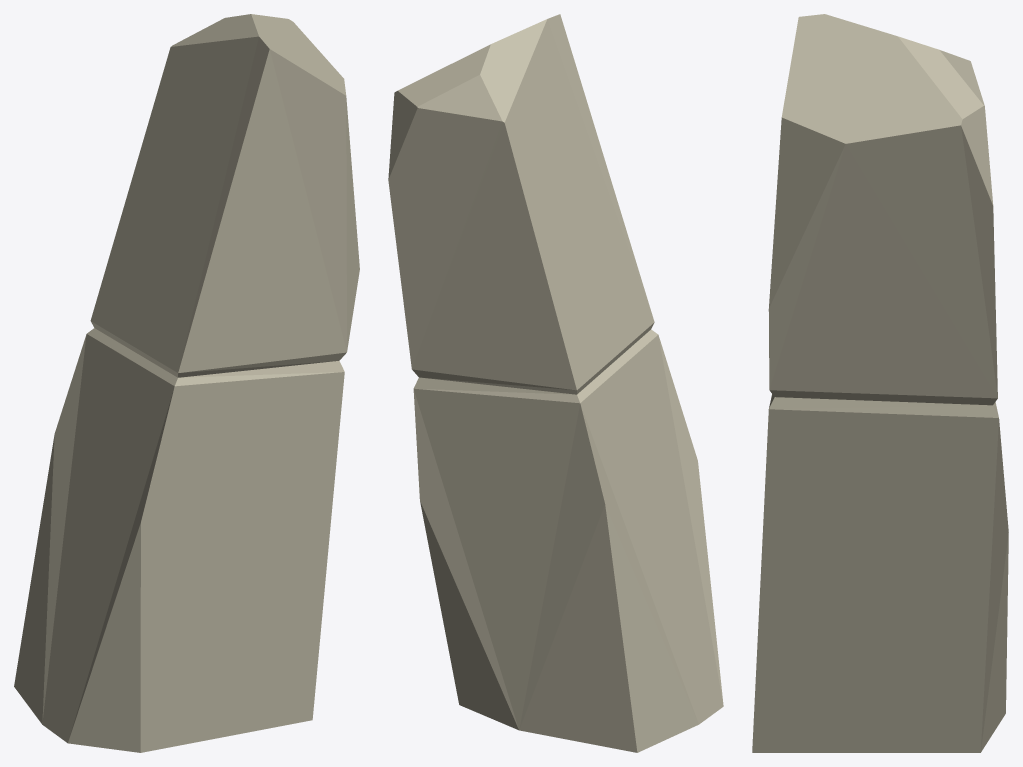
Rendered from Rock_Square_l_13 2.fbx.
3 renders of one model, left to right at view 1: azimuth 30°, elevation 25°; view 2: azimuth 150°, elevation 25°; view 3: azimuth 270°, elevation 25°, orthographic. The views are drawn at different scales.
Visible parts, largest first — view 1: Rock_Square_l_13; view 2: Rock_Square_l_13; view 3: Rock_Square_l_13.
Boxes of the visible parts, <box> form: Rock_Square_l_13: <box>14,14,359,752</box>; Rock_Square_l_13: <box>388,14,723,752</box>; Rock_Square_l_13: <box>752,14,1008,752</box>.
Bounding box in the file's own units: 202 × 452 × 145.
